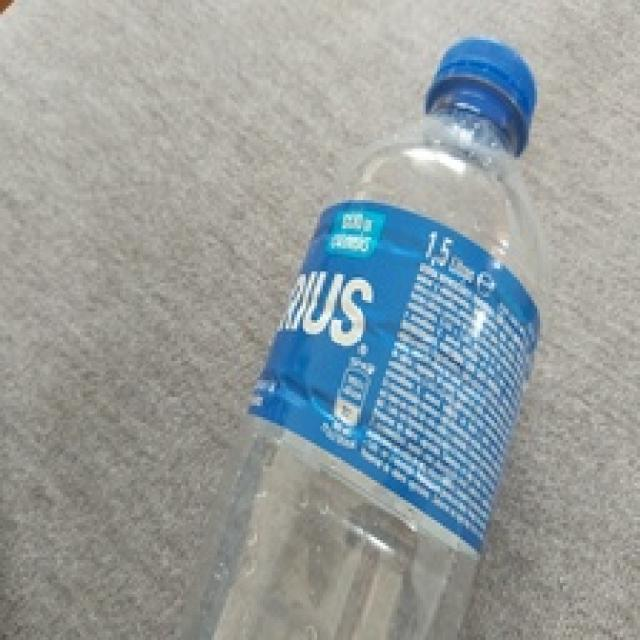Plastic: (206, 36, 546, 640)
